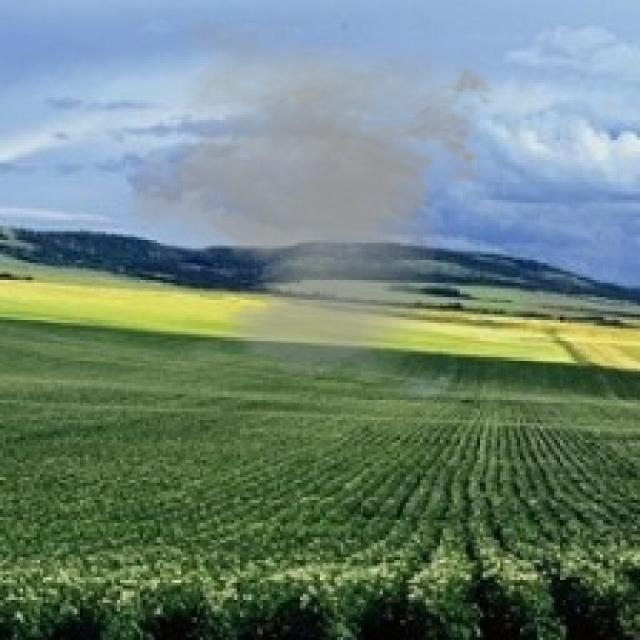smoke: (111, 17, 506, 383)
